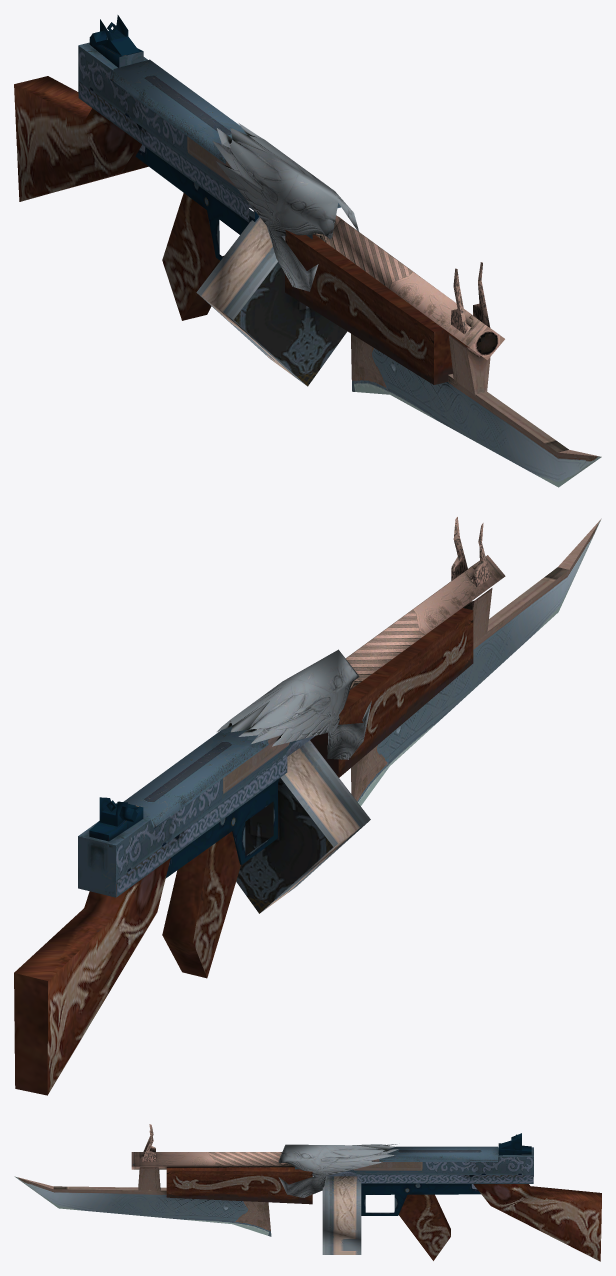
File: SMG_Tompson_fe_0_Body_Main_(000541).glb
The picture shows the model from 3 angles, top to bottom: view 1: azimuth 30°, elevation 25°; view 2: azimuth 150°, elevation 25°; view 3: azimuth 270°, elevation 25°; orthographic projection. The views are drawn at different scales.
Parts seen in each view (by area): view 1: Tompson_fe_0; view 2: Tompson_fe_0; view 3: Tompson_fe_0.
Part boxes in pixels (left/top/right/bottom): Tompson_fe_0: left=14, top=15, right=601, bottom=487; Tompson_fe_0: left=14, top=517, right=601, bottom=1095; Tompson_fe_0: left=14, top=1124, right=601, bottom=1261.
Size of the model in its own units: 0.1584 by 0.2594 by 1.06.
Materials: 2 (2 with a texture image).
